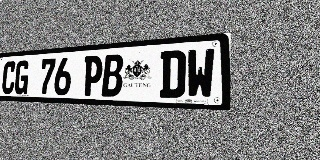6: (53, 57, 73, 95)
7: (38, 58, 56, 95)
B: (101, 54, 124, 97)
C: (1, 61, 17, 94)
D: (159, 50, 186, 98)
G: (14, 60, 30, 94)
P: (82, 55, 103, 96)
W: (186, 48, 215, 99)
